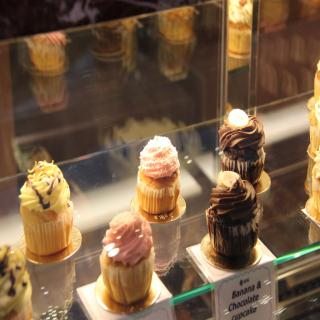Ice cream: (134, 134, 186, 212)
Muffin: (19, 157, 74, 256), (100, 209, 156, 305), (205, 168, 263, 260), (135, 131, 181, 214), (218, 106, 265, 184), (0, 245, 34, 320), (308, 60, 320, 212)
